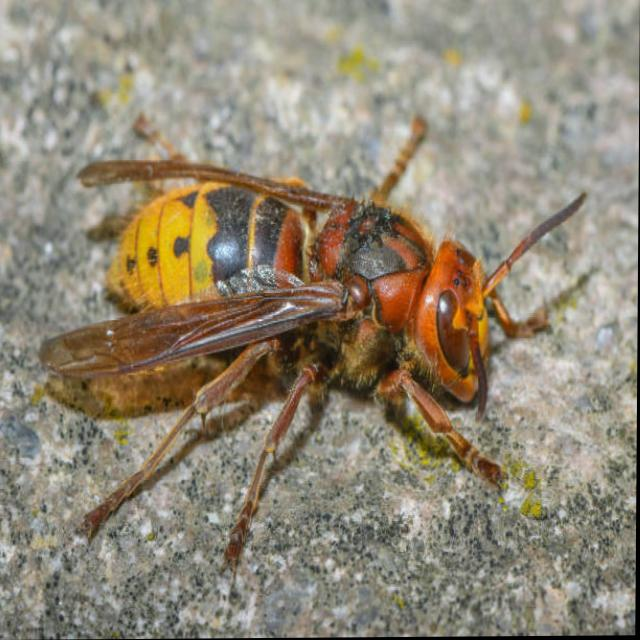Vespa Crabro: (41, 88, 597, 609)
